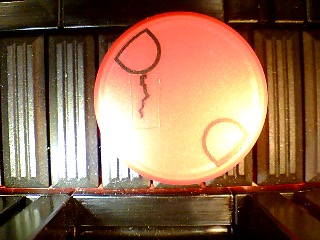CRACK: (93, 11, 268, 186)
